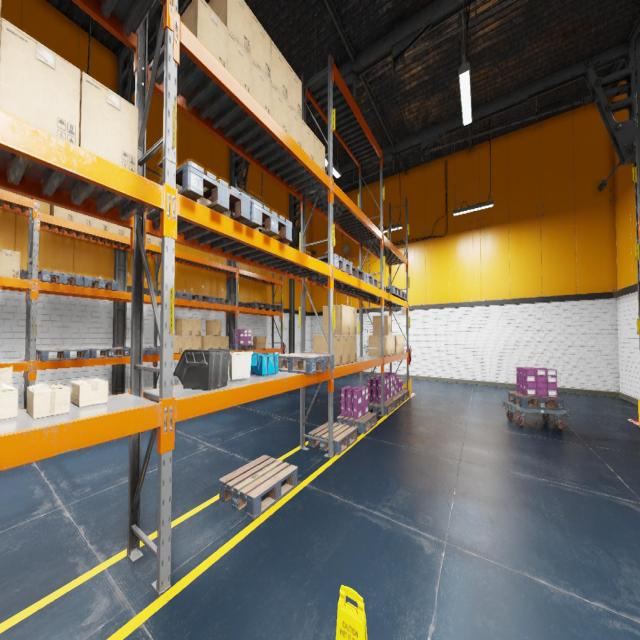box: (0, 18, 80, 146), (79, 72, 138, 174), (180, 0, 227, 69), (207, 0, 251, 56), (26, 382, 70, 419), (227, 29, 251, 94), (251, 11, 271, 80), (70, 378, 108, 407), (251, 57, 270, 115), (271, 39, 287, 101), (0, 367, 18, 419), (313, 334, 342, 366), (271, 82, 287, 133), (322, 305, 350, 334), (288, 63, 302, 118), (288, 102, 302, 147), (0, 248, 20, 278), (302, 119, 314, 161), (314, 134, 325, 172), (50, 204, 74, 221), (368, 336, 388, 356), (373, 315, 391, 335), (175, 318, 192, 336), (74, 212, 91, 226), (342, 335, 350, 364), (92, 217, 108, 231), (206, 320, 220, 335), (350, 334, 357, 362), (108, 222, 123, 235), (395, 336, 405, 354), (182, 336, 192, 353), (253, 336, 266, 349), (350, 306, 356, 334), (0, 189, 24, 196), (173, 336, 182, 354), (201, 336, 213, 349), (192, 319, 201, 335), (192, 336, 201, 349), (151, 235, 161, 246), (212, 336, 220, 348), (221, 336, 228, 348), (391, 336, 395, 354), (388, 335, 391, 355), (124, 227, 130, 237), (146, 234, 150, 243), (0, 17, 1, 52), (0, 0, 1, 18)
pallets: (147, 160, 250, 223), (220, 455, 298, 519), (230, 200, 292, 243), (308, 422, 357, 454), (278, 353, 334, 374), (508, 391, 563, 410), (337, 412, 377, 434), (316, 254, 352, 275), (38, 270, 83, 286), (36, 348, 90, 361), (82, 276, 118, 290), (87, 347, 129, 358), (368, 399, 396, 415), (125, 346, 160, 356), (158, 290, 190, 300), (378, 286, 401, 297), (190, 293, 211, 303), (352, 266, 365, 282), (389, 394, 403, 407), (366, 273, 378, 288), (396, 389, 409, 402), (211, 297, 232, 305), (246, 302, 268, 309), (229, 344, 254, 350), (264, 304, 281, 311), (398, 290, 407, 300)
